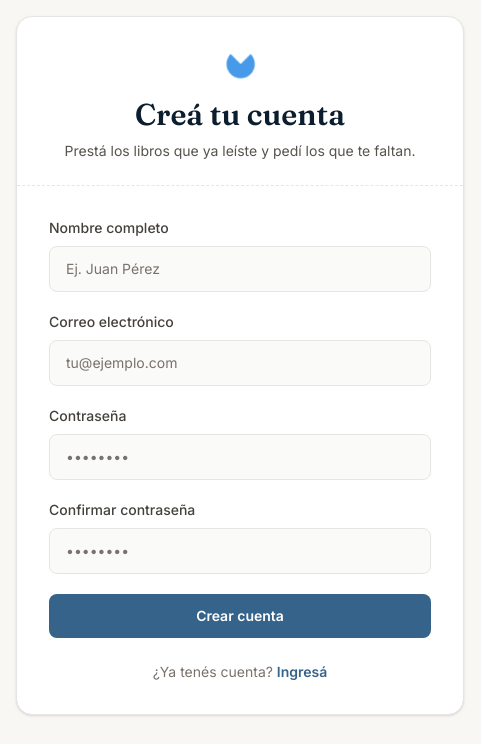
Test case: AuthForm › limpia el error del campo al escribir nuevamente
Click the button "Crear cuenta": click(240, 616) [49,594,431,638]
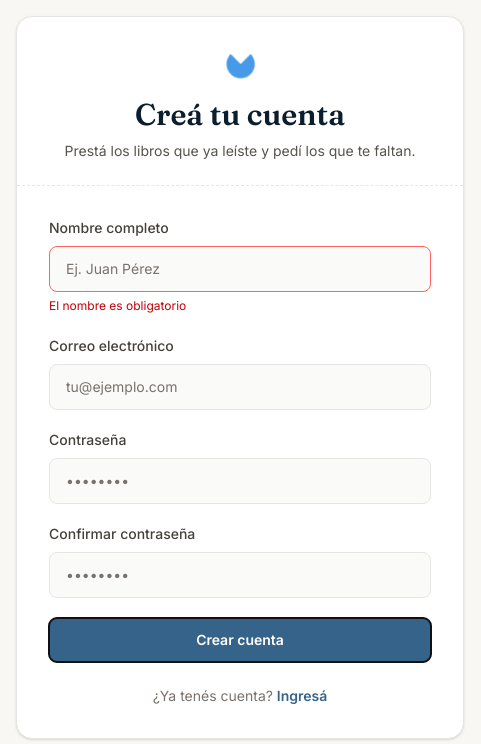
expect the text "El nombre es obligatorio" is shown: met, box [49,298,186,313]
In the field labelled "Nombre completo": (240, 269) [49,246,431,292], type "T"
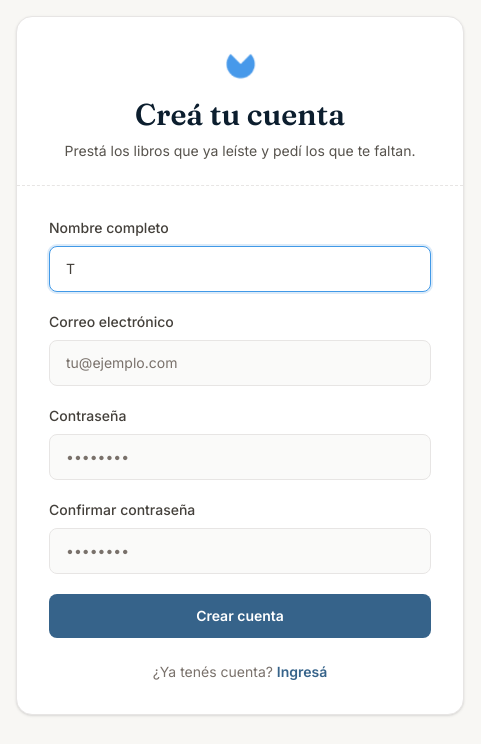
expect the text "El nombre es obligatorio" is gone: met
